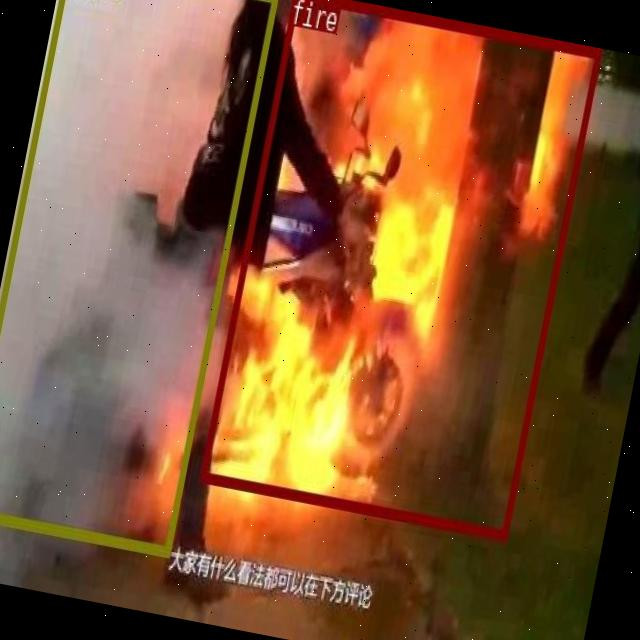fire: (198, 0, 601, 540)
smoke: (0, 0, 279, 554)
